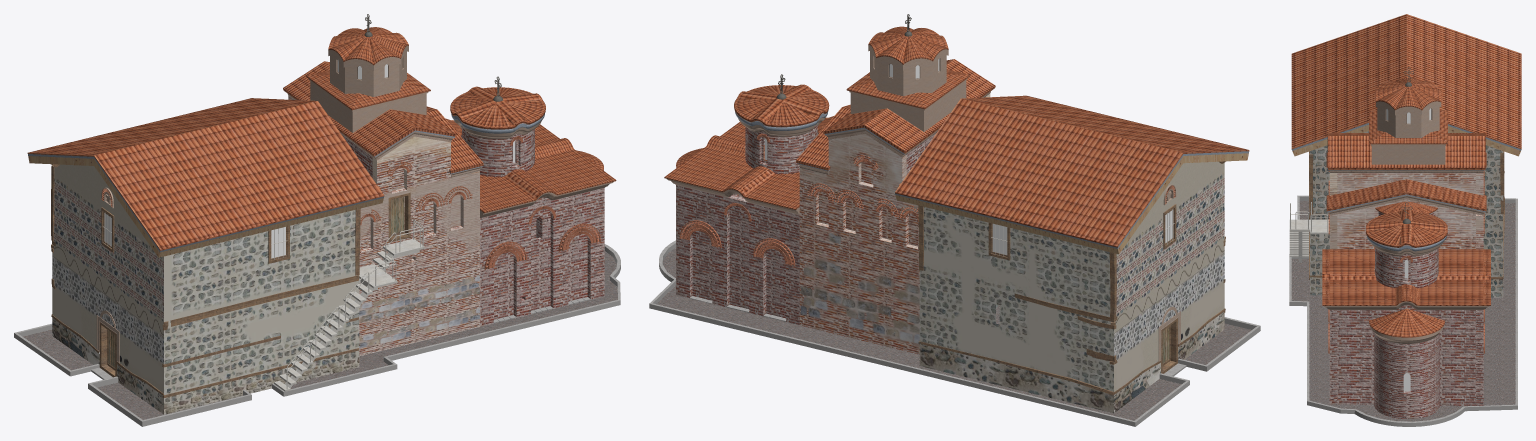
Rendered from boyana.glb.
3 views of the same model, side by side, from view 1: azimuth 30°, elevation 25°; view 2: azimuth 150°, elevation 25°; view 3: azimuth 270°, elevation 25° (orthographic). The views are drawn at different scales.
Visible parts, largest first — view 1: Object_1416_/Old brick_10_0; view 2: Object_1416_/Old brick_10_0; view 3: Object_1416_/Old brick_10_0.
Part boxes in pixels (left/top/right/bottom): Object_1416_/Old brick_10_0: left=14, top=14, right=620, bottom=426; Object_1416_/Old brick_10_0: left=649, top=14, right=1260, bottom=426; Object_1416_/Old brick_10_0: left=1289, top=14, right=1521, bottom=426.
Bounding box in the file's own units: 1.6 × 0.861 × 0.6948.
Materials: 22 (21 with a texture image).
